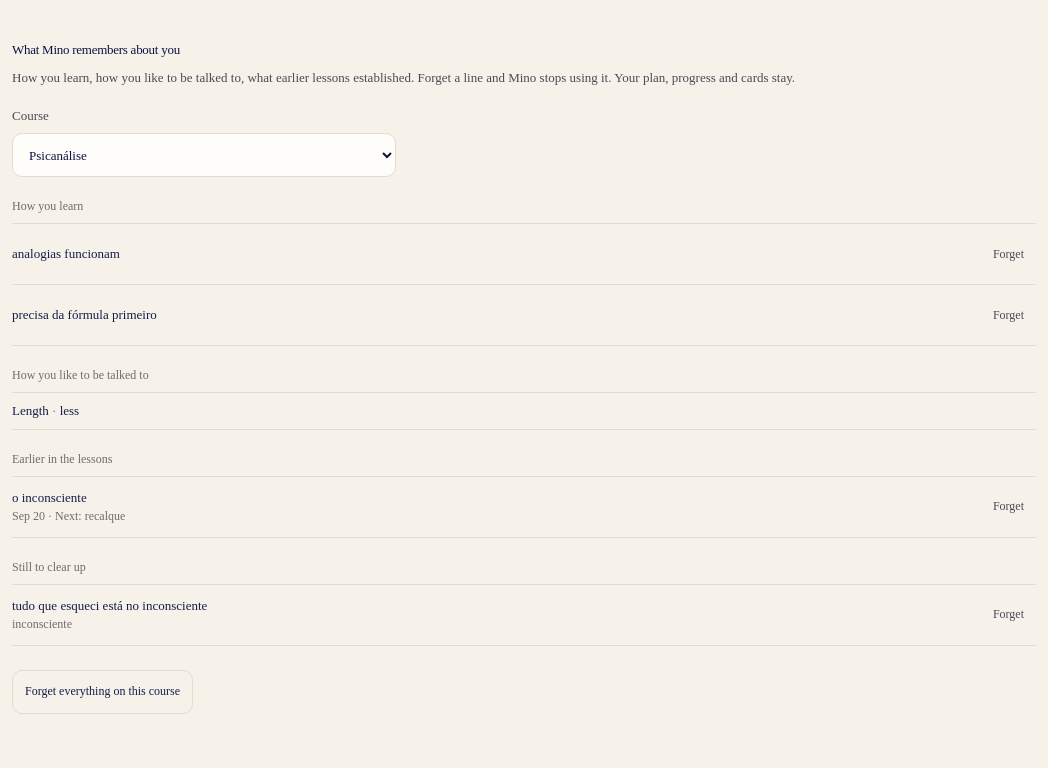
it: MemorySection › asks once before forgetting everything on a course, and can be talked out of it
This screenshot has width=1048, height=768.
expect the text "analogias funcionam" is shown: met, box [12,244,120,264]
Click the button "Forget everything on this course".
click(103, 692)  # box [12,670,193,714]
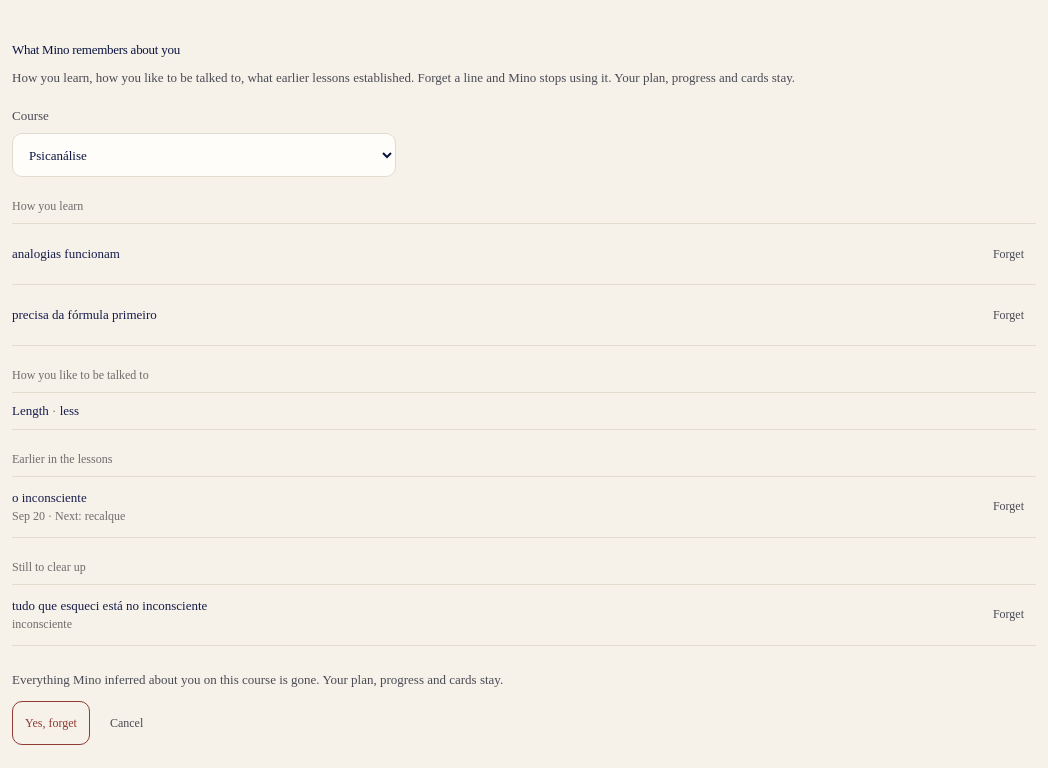
expect the element named "Forget everything on this course" shows "plan, progress and cards stay": met, box [12,672,503,686]
Click the button "Cancel".
click(127, 723)  # box [98,701,155,745]
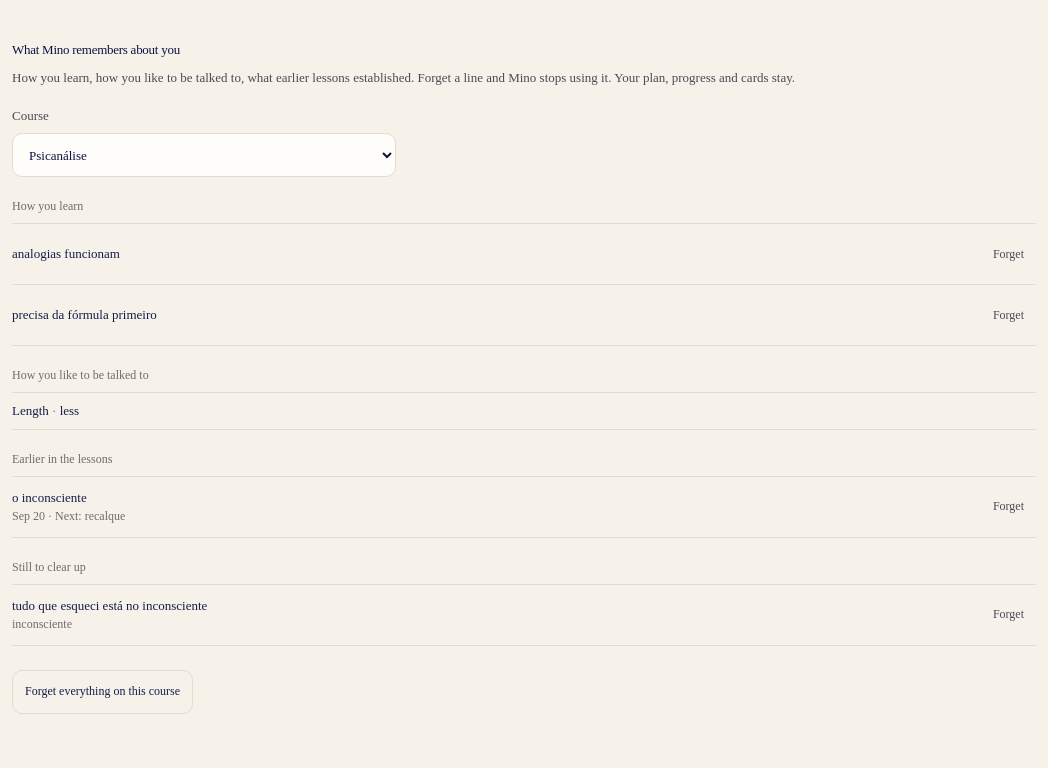
Click the button "Forget everything on this course".
click(103, 692)  # box [12,670,193,714]
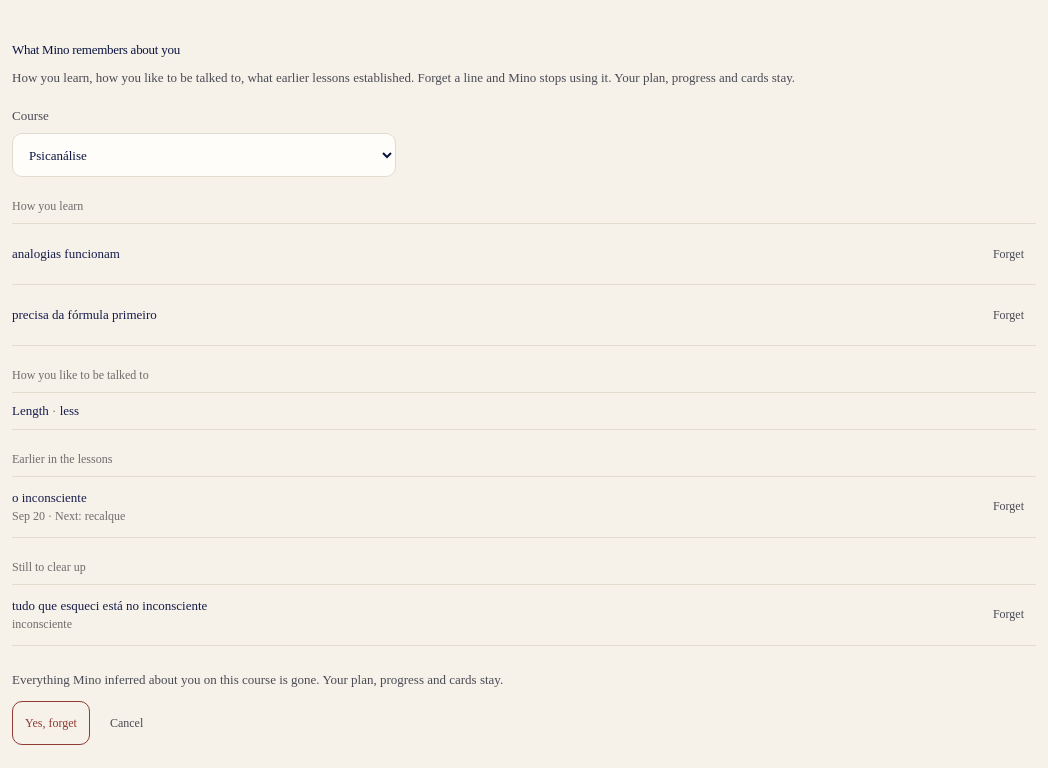
Click the button "Yes, forget".
click(51, 723)  # box [12,701,90,745]
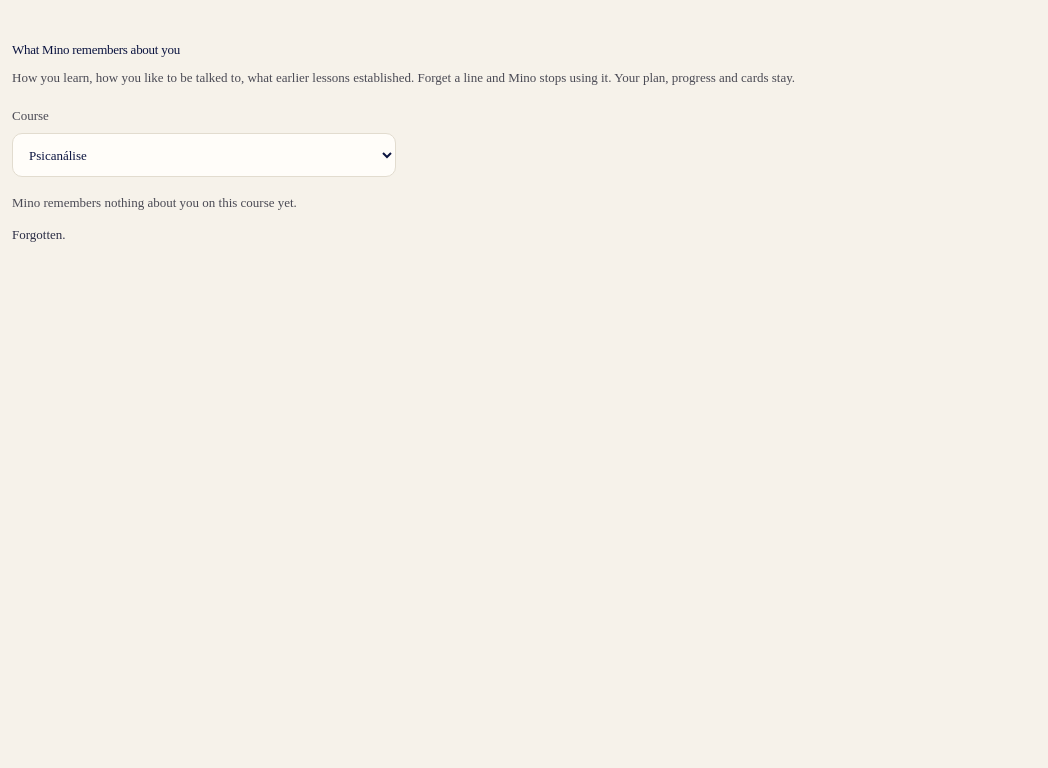
expect the text "Mino remembers nothing about you on this course yet." is shown: met, box [12,195,297,210]
